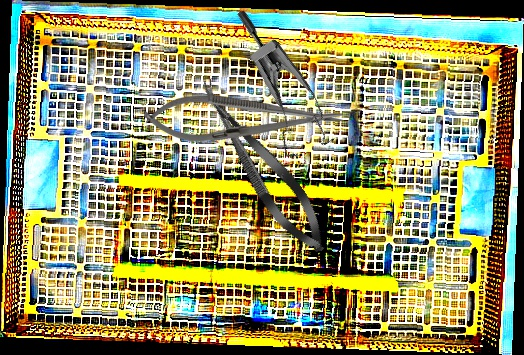Micro Scissor: (186, 70, 338, 263)
Needle Holder: (144, 94, 343, 143)
Speculum: (190, 8, 356, 172)
